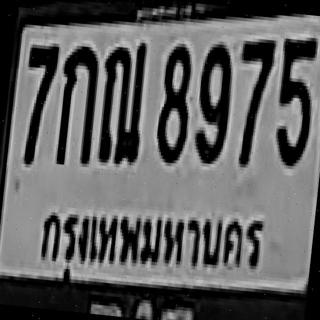A01: (53, 41, 99, 164)
A19: (95, 37, 148, 164)
N05: (271, 34, 317, 165)
N07: (228, 34, 274, 166), (17, 41, 58, 162)
N08: (153, 42, 193, 160)
N09: (191, 40, 234, 162)
P04: (35, 184, 274, 298)
